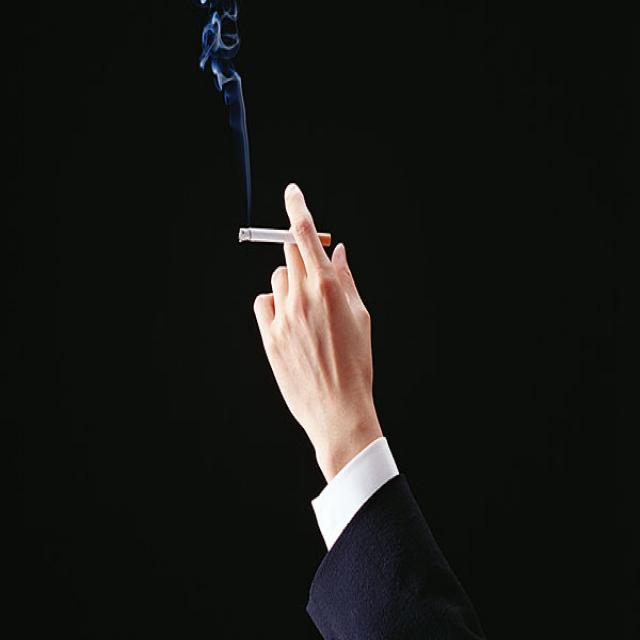smoking: (239, 226, 331, 248)
